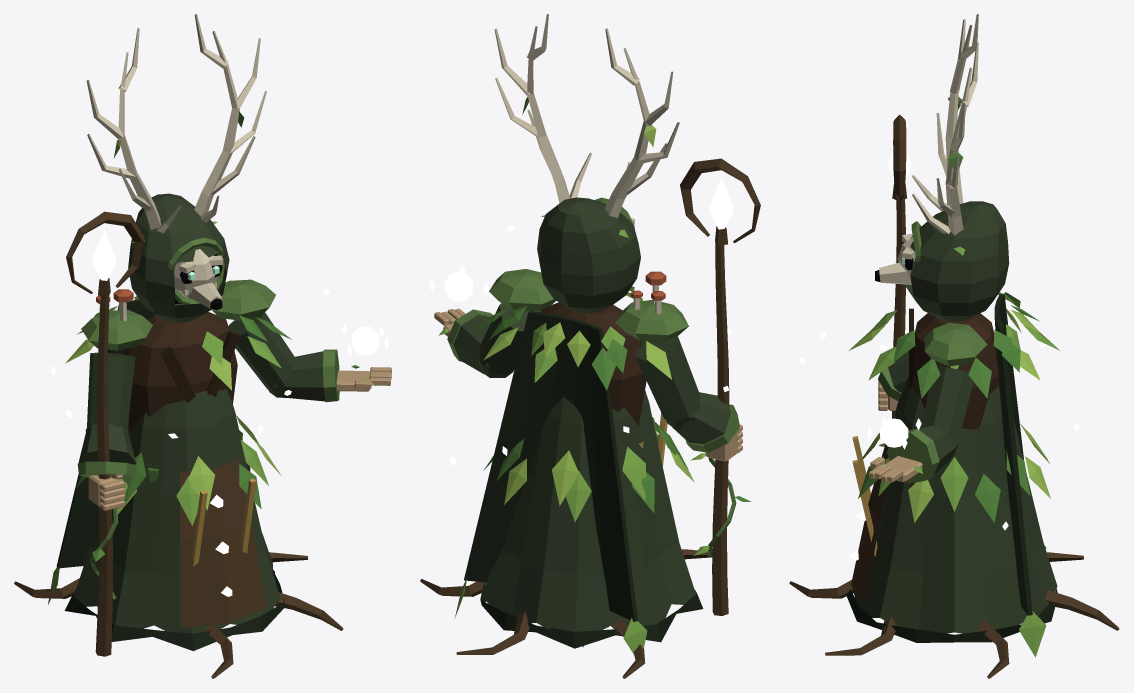
The model's file is DruidV3.fbx.
3 renders of one model, left to right at view 1: azimuth 30°, elevation 25°; view 2: azimuth 150°, elevation 25°; view 3: azimuth 270°, elevation 25°, orthographic. The views are drawn at different scales.
Visible parts, largest first — view 1: Root__Robe, Root__Bark, Head__Bone, Torso__Leather, Head__Robe, Weapon__Bark, ArmL__Robe, ArmR__Robe, Torso__Moss, Cape__RobeDark, Root__RobeDark, Torso__BarkDark (+13 smaller); view 2: Root__Robe, Cape__RobeDark, Head__Robe, Head__Bone, Weapon__Bark, ArmR__Robe, Torso__Moss, Torso__Leather, ArmL__Robe, Root__RobeDark, Root__Bark, Root__LeafC (+12 smaller); view 3: Root__Robe, Head__Robe, Head__Bone, Root__Bark, Cape__RobeDark, ArmL__Robe, Torso__Leather, Weapon__Bark, Torso__Moss, Root__RobeDark, Torso__LeafB, ArmL__Moss (+10 smaller).
Part boxes in pixels (x1,y1,x2,y2): Root__Robe: (74, 388, 280, 633); Root__Bark: (14, 459, 343, 678); Head__Bone: (86, 14, 266, 310); Torso__Leather: (123, 312, 250, 471); Head__Robe: (128, 193, 229, 322); Weapon__Bark: (66, 211, 144, 656); ArmL__Robe: (228, 312, 325, 401); ArmR__Robe: (78, 352, 136, 464); Torso__Moss: (81, 279, 275, 350); Cape__RobeDark: (56, 299, 155, 568); Root__RobeDark: (64, 569, 284, 651); Torso__BarkDark: (160, 331, 240, 403); Root__Robe: (481, 390, 695, 631); Cape__RobeDark: (464, 311, 637, 621); Head__Robe: (537, 197, 640, 313); Head__Bone: (494, 14, 679, 224); Weapon__Bark: (680, 158, 760, 615); ArmR__Robe: (635, 336, 730, 444); Torso__Moss: (489, 269, 688, 341); Torso__Leather: (540, 302, 646, 426); ArmL__Robe: (453, 303, 540, 377); Root__RobeDark: (480, 582, 703, 648); Root__Bark: (420, 549, 712, 678); Root__LeafC: (504, 417, 694, 505); Root__Robe: (852, 375, 1057, 633); Head__Robe: (904, 201, 1009, 320); Head__Bone: (879, 14, 978, 284); Root__Bark: (789, 444, 1119, 678); Cape__RobeDark: (994, 294, 1032, 615); ArmL__Robe: (916, 365, 973, 473); Torso__Leather: (910, 313, 998, 487); Weapon__Bark: (892, 114, 906, 418); Torso__Moss: (924, 322, 987, 366); Root__RobeDark: (846, 589, 1057, 642); Torso__LeafB: (893, 305, 1039, 398); ArmL__Moss: (887, 428, 939, 483).
Size of the model in its own units: 2.25 by 3.9 by 1.99.
